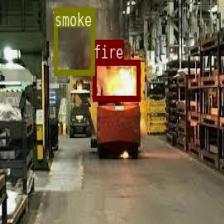fire: (92, 59, 140, 100)
smoke: (53, 6, 94, 74)
